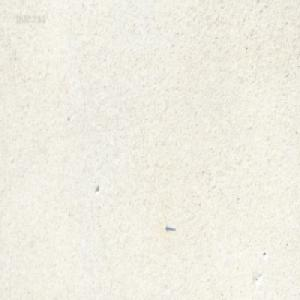Nail: (165, 223, 175, 231)
